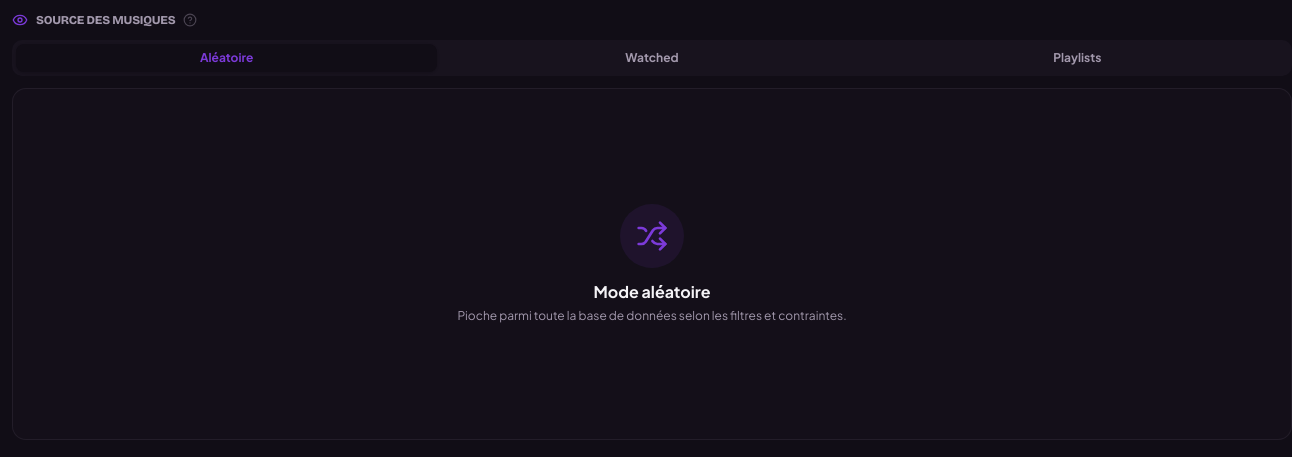
SourceSection › opens the playlists picker without locking the tab
Step 1. Click the tab "Playlists" → (1077, 58), box [867,44,1288,72]
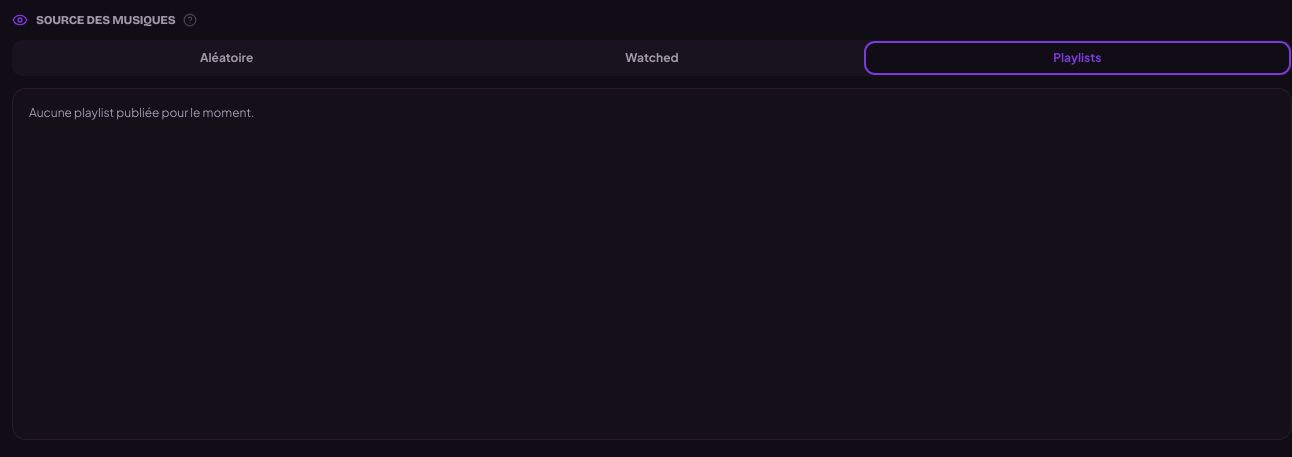
Expected: the text "Aucune playlist publiée pour le moment." is shown, [29,105,254,120]
